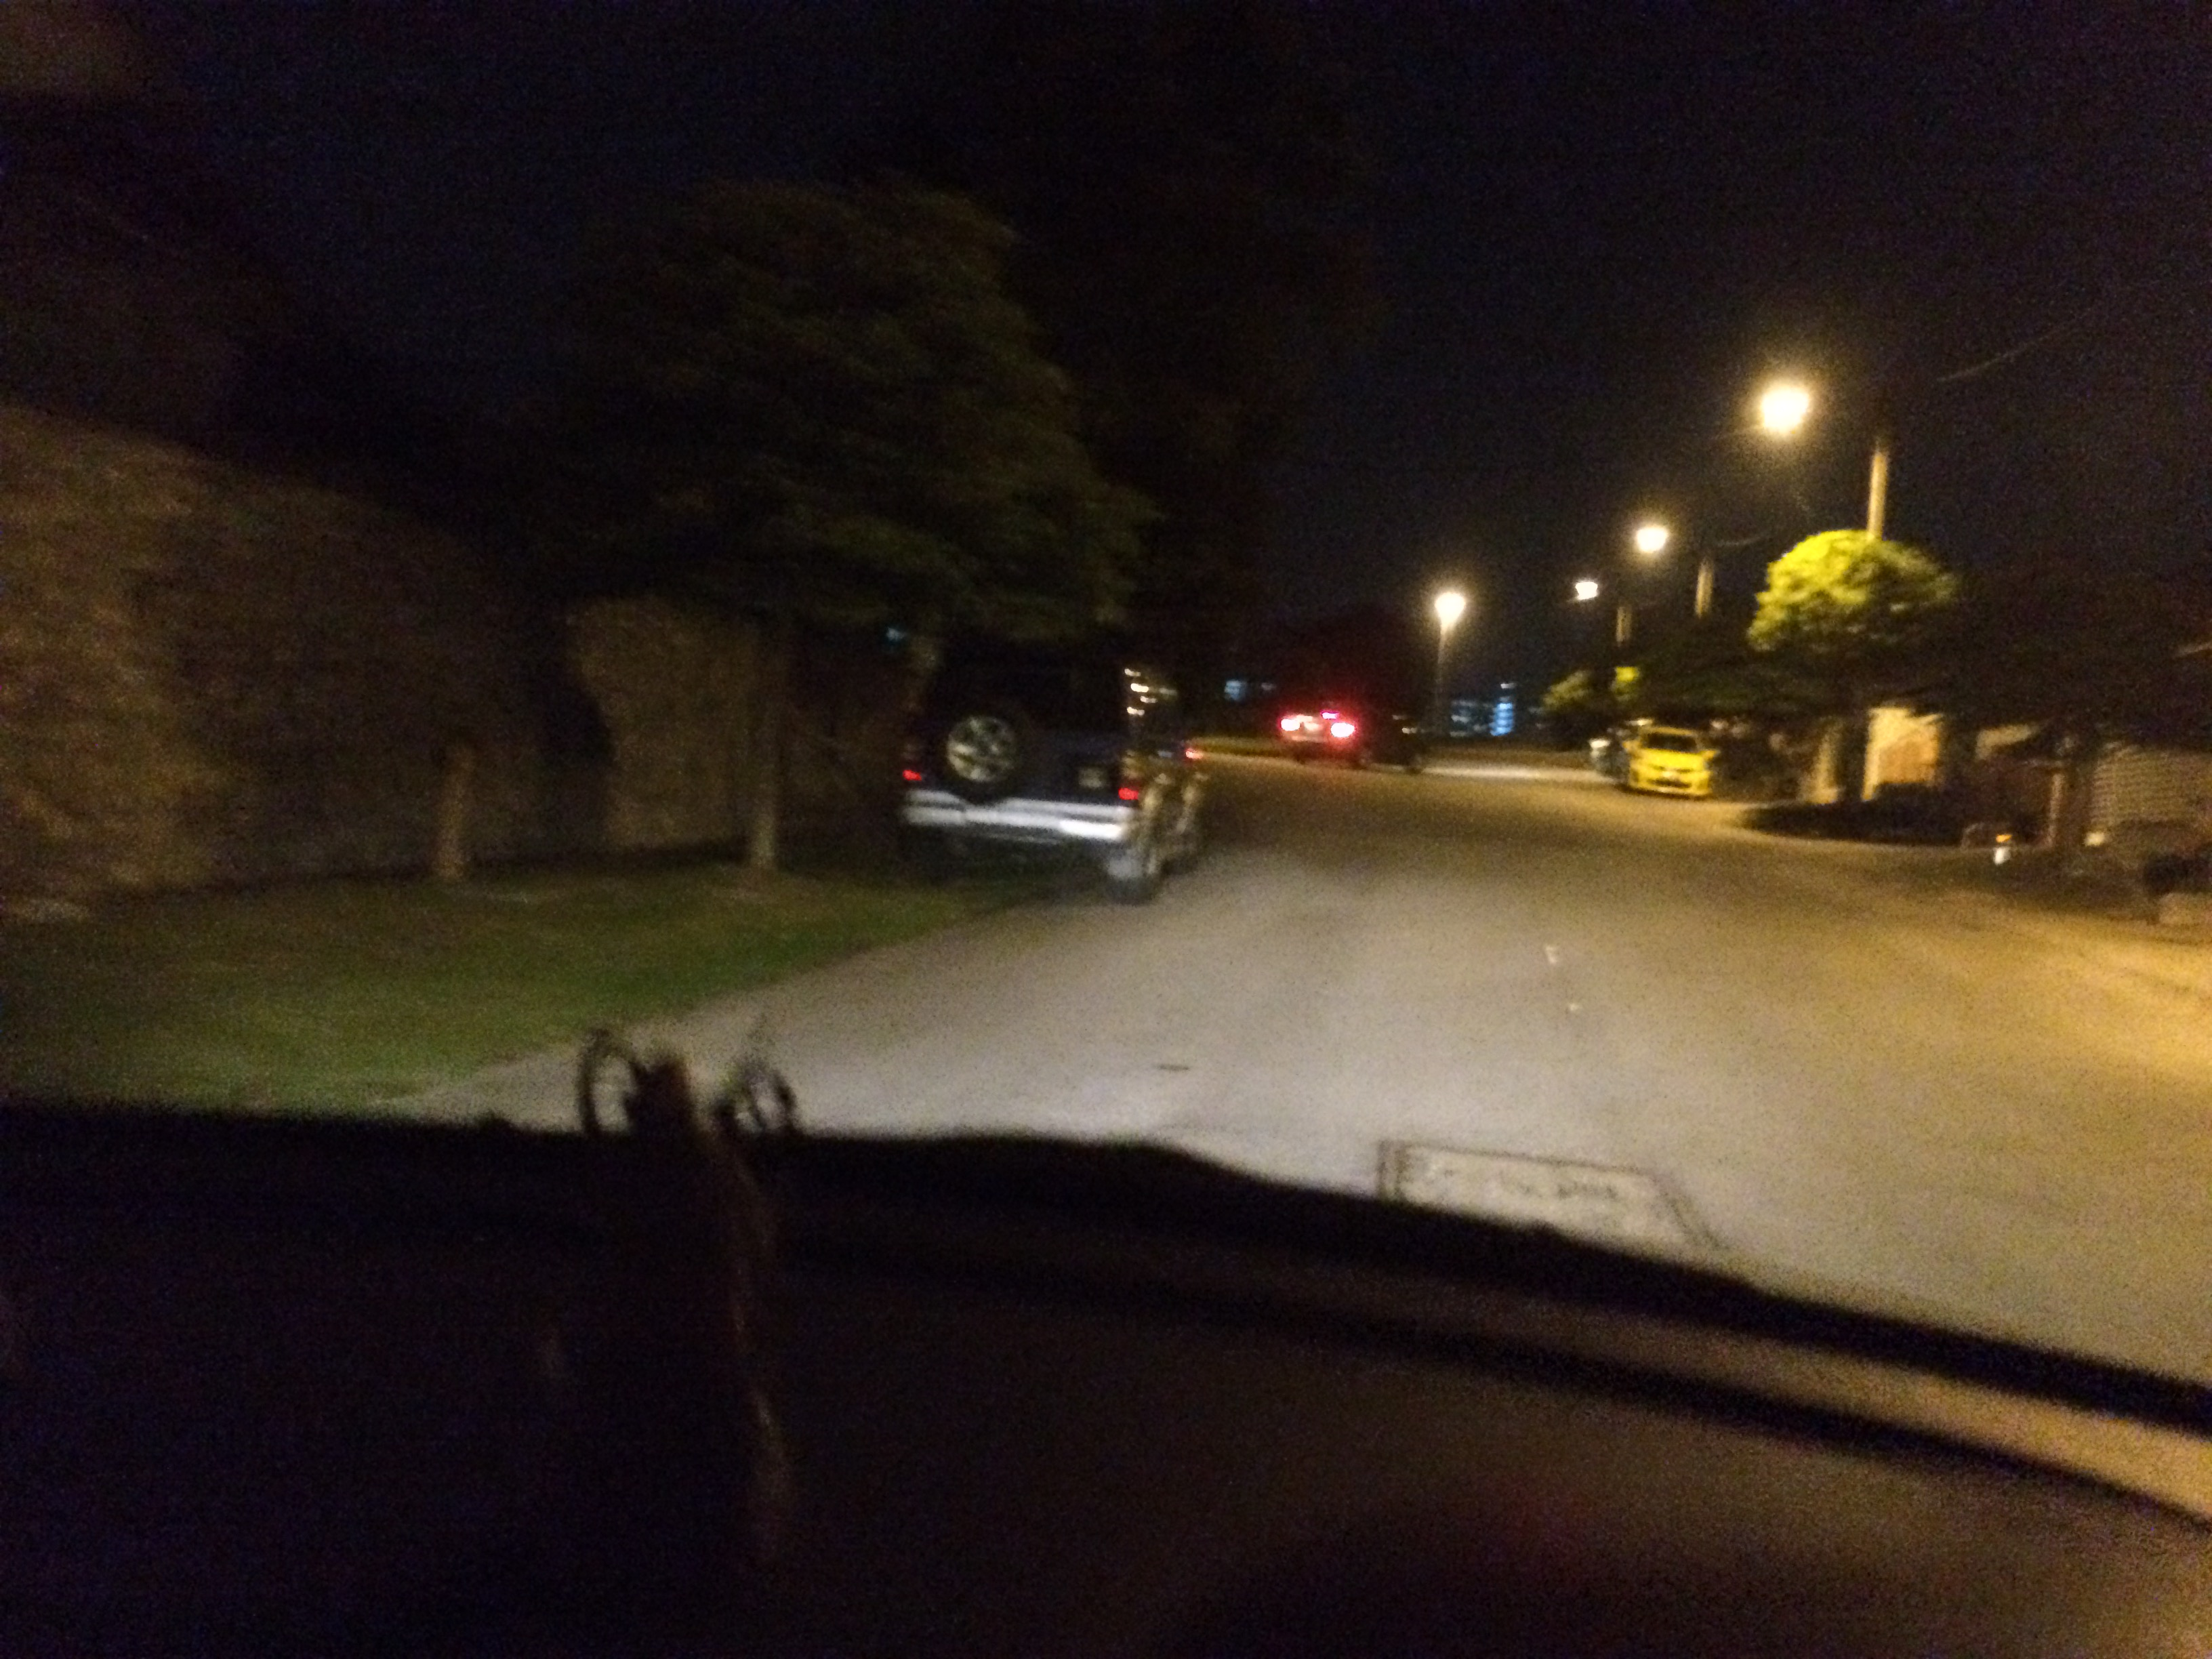car: (873, 622, 1228, 931)
